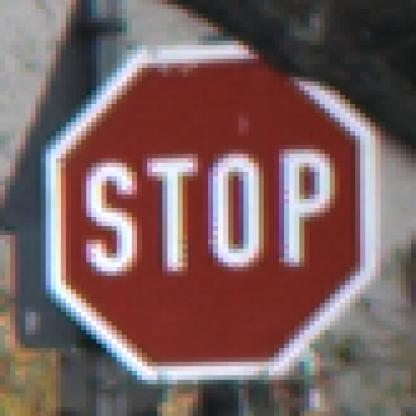Stop: (52, 44, 372, 376)
